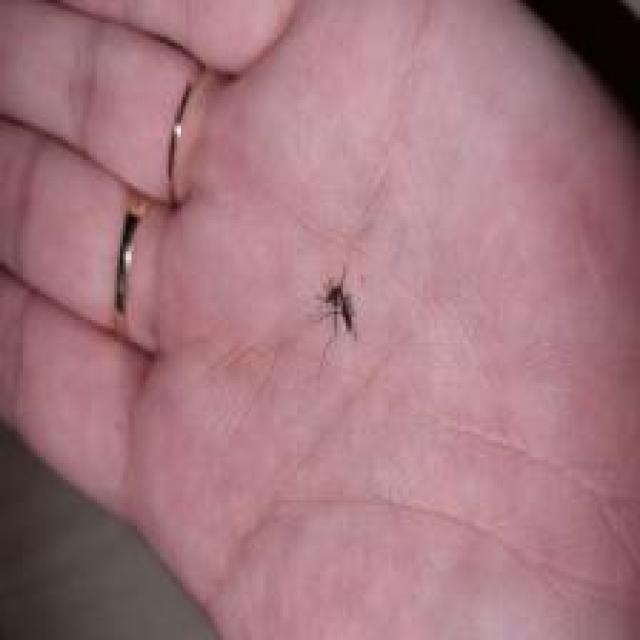Aedes albopictus: (111, 201, 146, 316)
